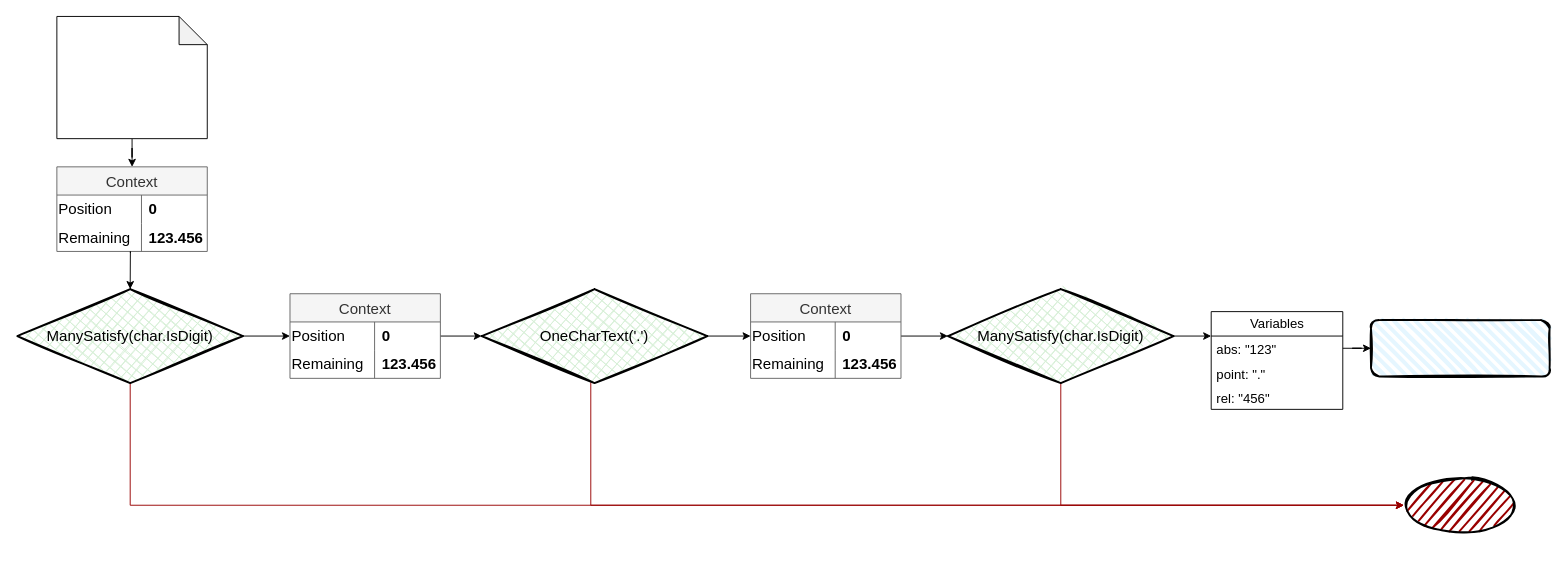
Image size: 1566x572. Some labels were removed from this diagram. The centre of each missing label's shape, as x and y in pixels:
"Input text 123.456" belongs at point 131,77.
"Map to JsonDecimalValue" belongs at point 1460,348.
"Parsing failure" belongs at point 1459,505.
